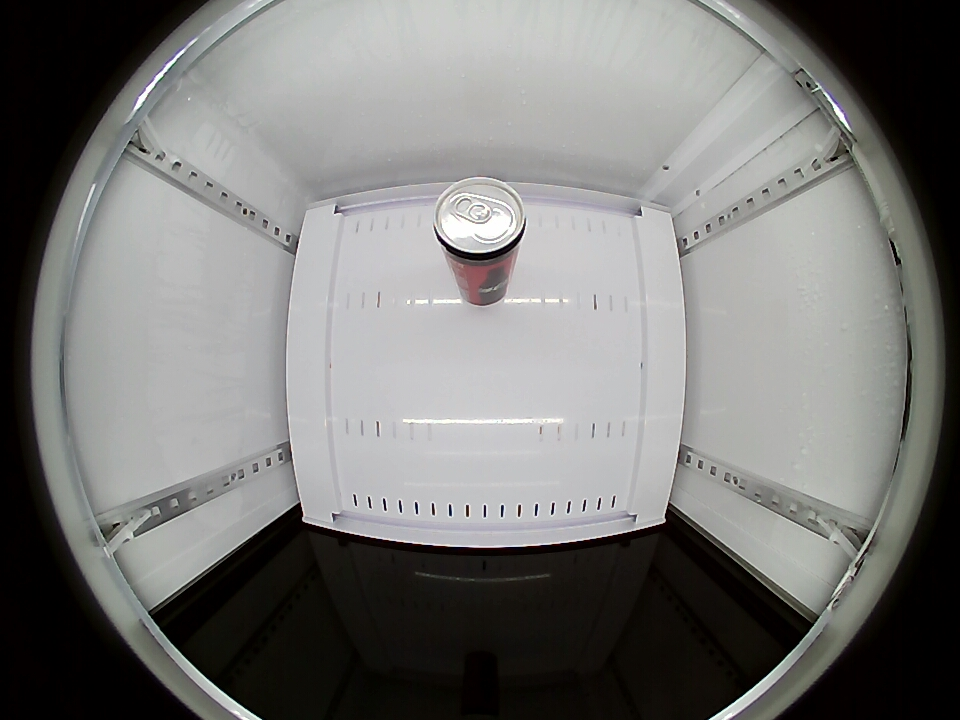lingdukele: (432, 177, 527, 270)
